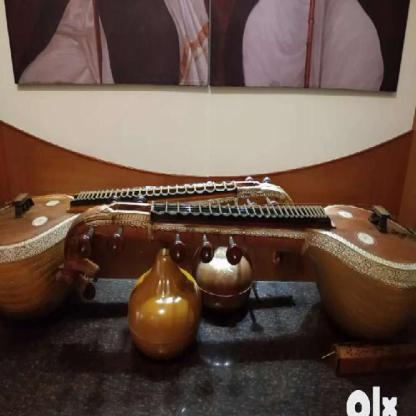Veena: (1, 177, 372, 262)
